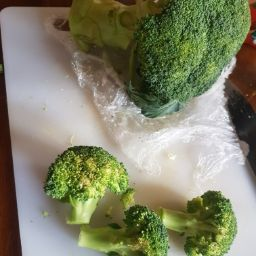Broccoli florets: (27, 1, 253, 124), (40, 143, 136, 237), (62, 198, 181, 256), (157, 182, 248, 256)
